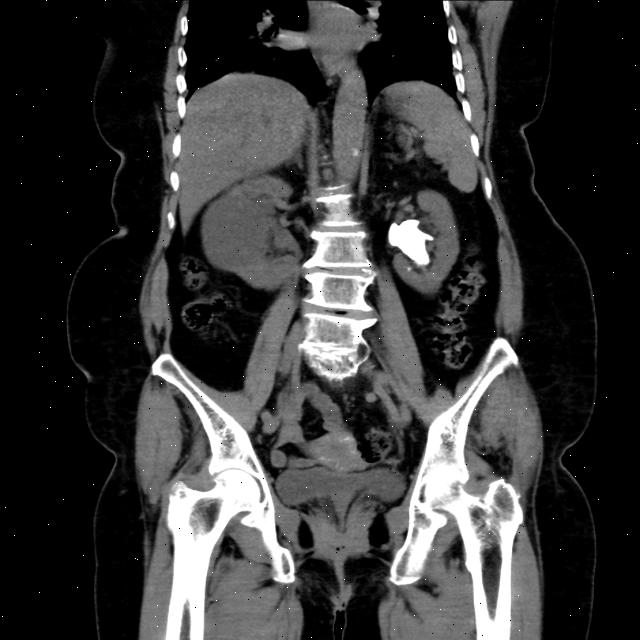kidneystone: (388, 220, 434, 265)
